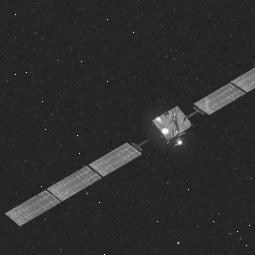smart_1: (78, 66, 242, 187)
